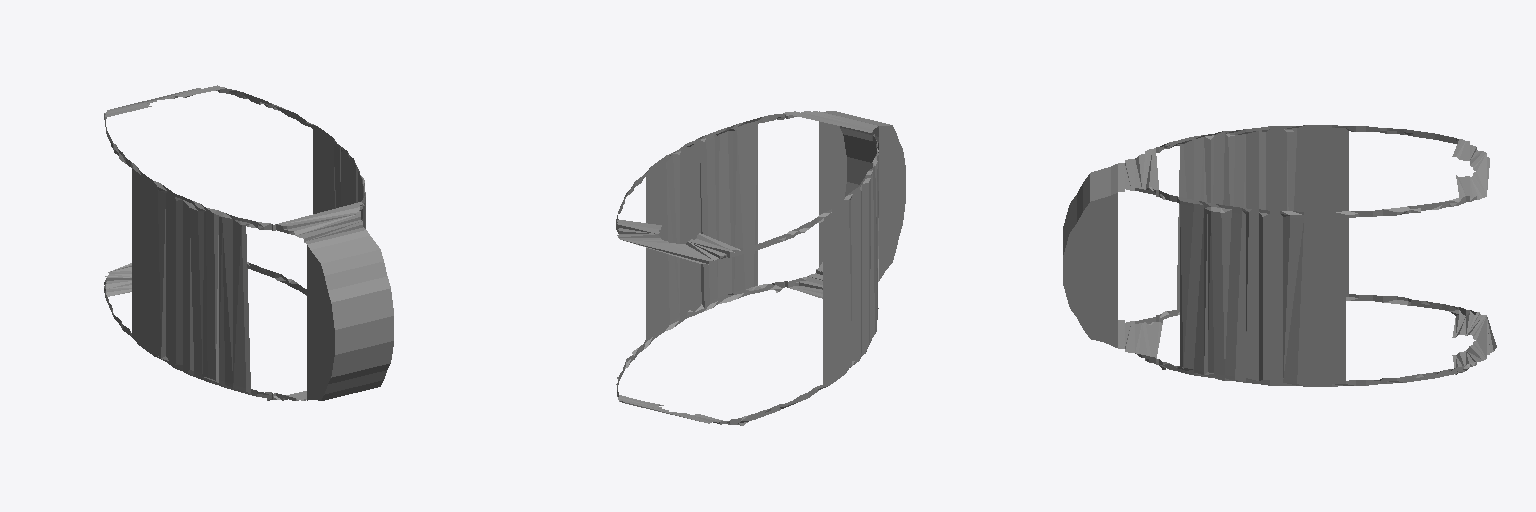
The model's file is oval_1.obj.
The picture shows the model from 3 angles: view 1: azimuth 30°, elevation 25°; view 2: azimuth 150°, elevation 25°; view 3: azimuth 270°, elevation 25°; orthographic projection.
Visible parts, largest first — view 1: _STL_BINARY_; view 2: _STL_BINARY_; view 3: _STL_BINARY_.
Part boxes in pixels (left/top/right/bottom): _STL_BINARY_: left=104, top=85, right=393, bottom=400; _STL_BINARY_: left=616, top=111, right=905, bottom=425; _STL_BINARY_: left=1063, top=125, right=1496, bottom=386.
Size of the model in its own units: 0.006 by 0.0058 by 0.0126.